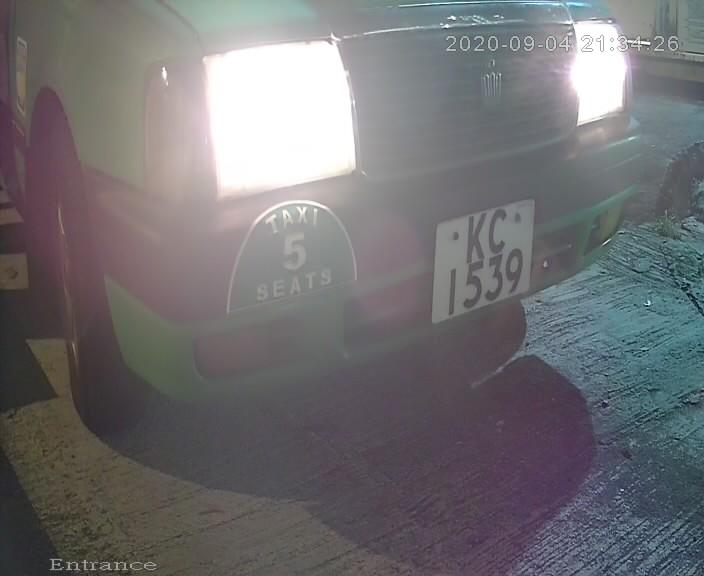Car: (10, 1, 698, 471)
License Plate: (425, 178, 538, 335)
